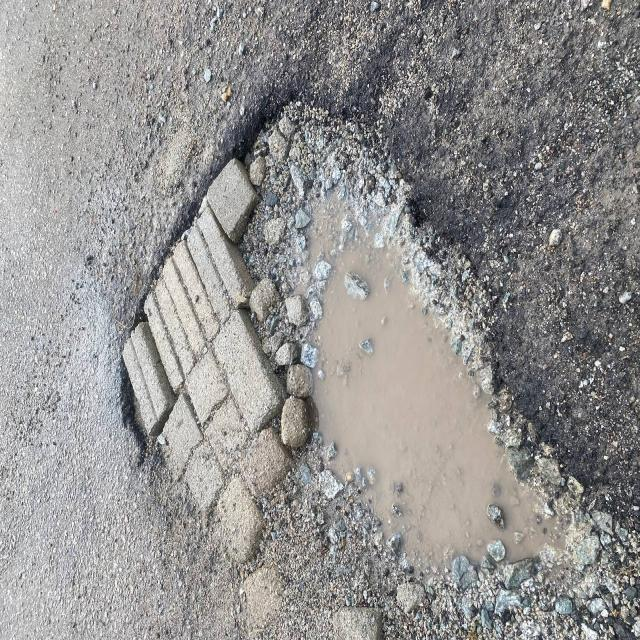pothole: (77, 82, 584, 640)
